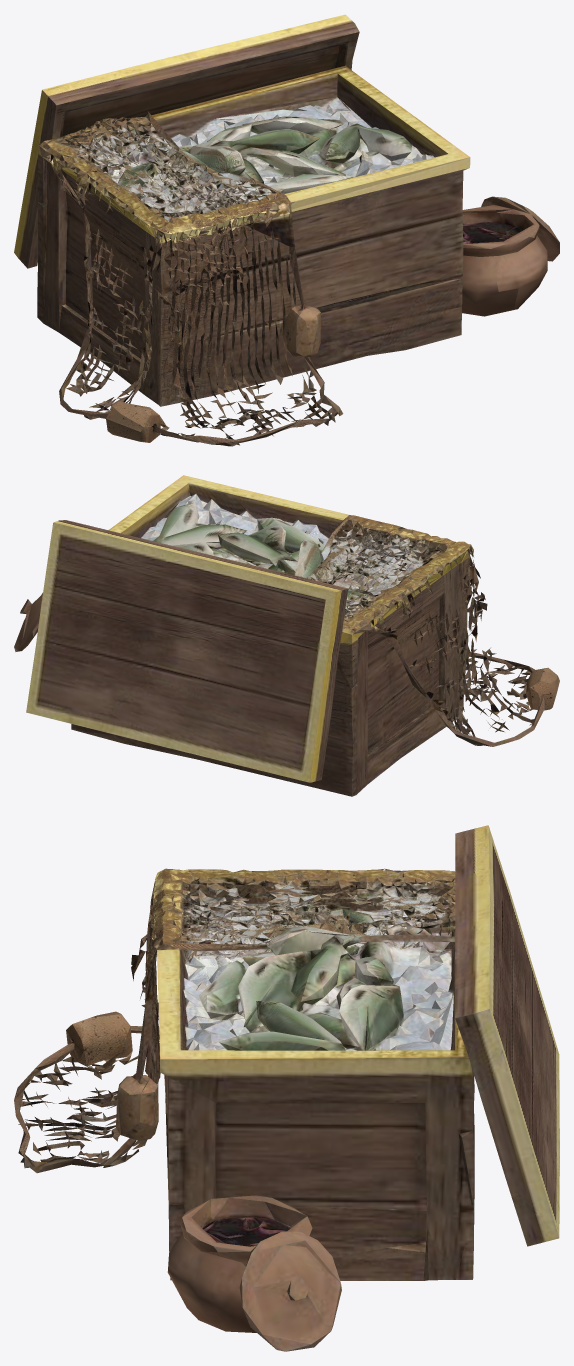
The model's file is et_fishcrate.glb.
3 views of the same model, one above another, from view 1: azimuth 30°, elevation 25°; view 2: azimuth 150°, elevation 25°; view 3: azimuth 270°, elevation 25° (orthographic). The views are drawn at different scales.
Bounding box in the file's own units: 1.9 × 0.7895 × 1.39.
Materials: 1 (1 with a texture image).
